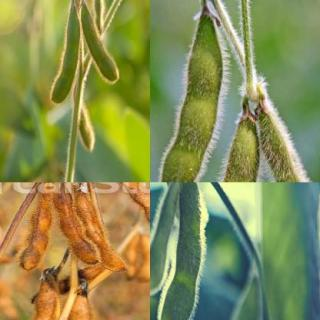soya: (160, 19, 222, 182), (158, 182, 202, 320), (181, 118, 258, 182), (70, 190, 130, 272), (260, 110, 319, 182), (53, 187, 97, 266), (18, 182, 53, 271), (150, 186, 178, 295), (92, 182, 150, 234), (82, 2, 119, 83), (49, 11, 81, 104), (26, 278, 60, 319), (66, 293, 93, 319), (79, 106, 93, 149), (93, 0, 104, 32)
